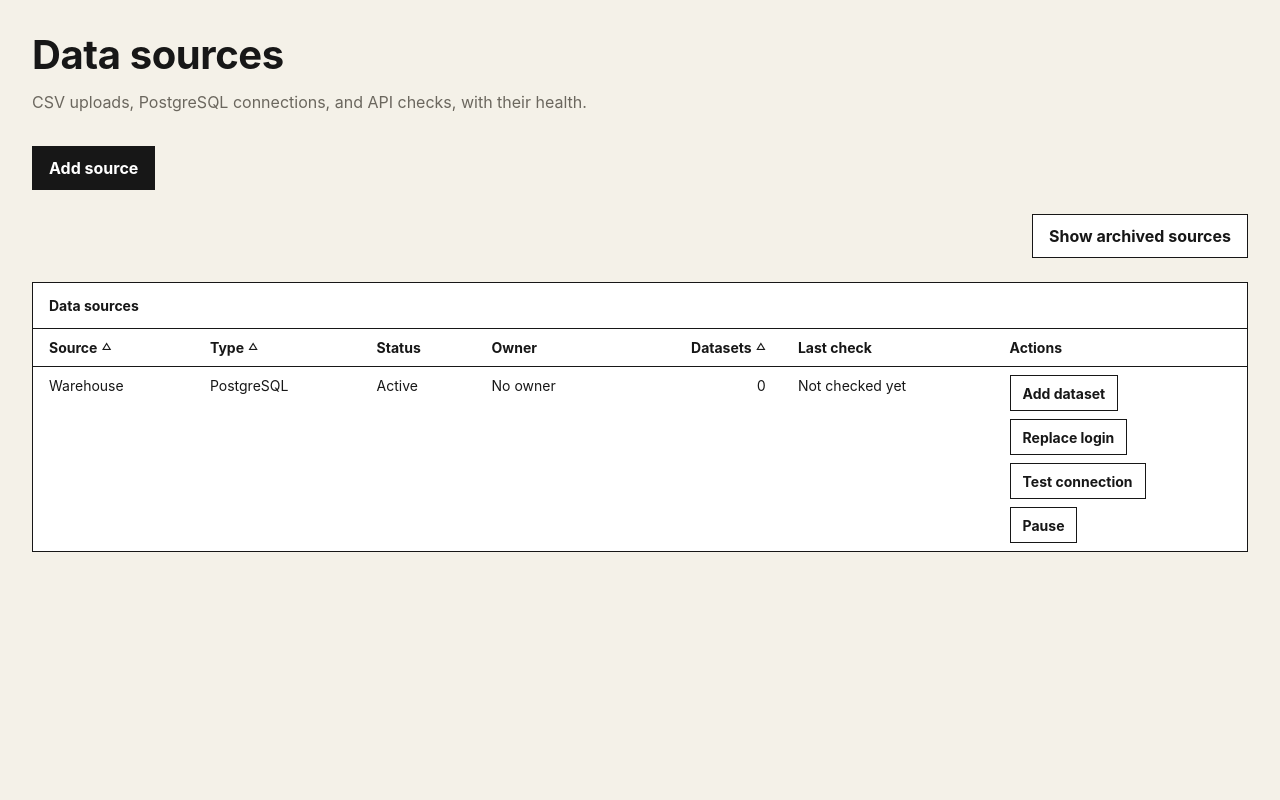
Test: Add a PostgreSQL source › tests a database connection and shows the safe result
Click the button with aria-label "Test connection to Warehouse". click: [1078, 481]
box: [1010,463,1146,499]
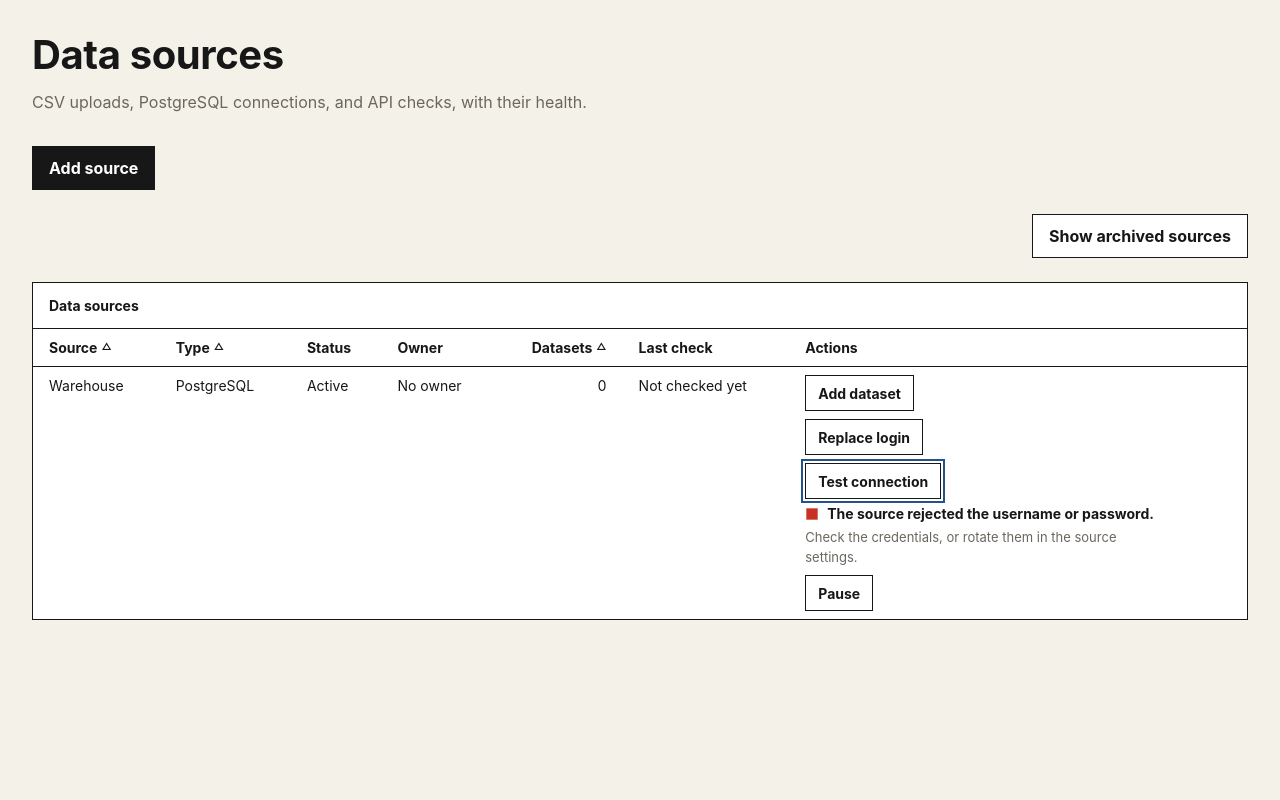
expect the text "The source rejected the username or password." is shown: met, box [827,503,1154,524]
